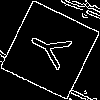Y: (25, 25, 81, 75)
